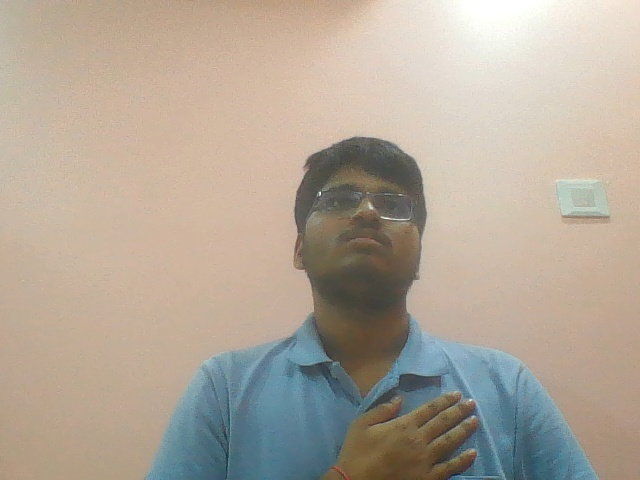please: (334, 384, 495, 480)
